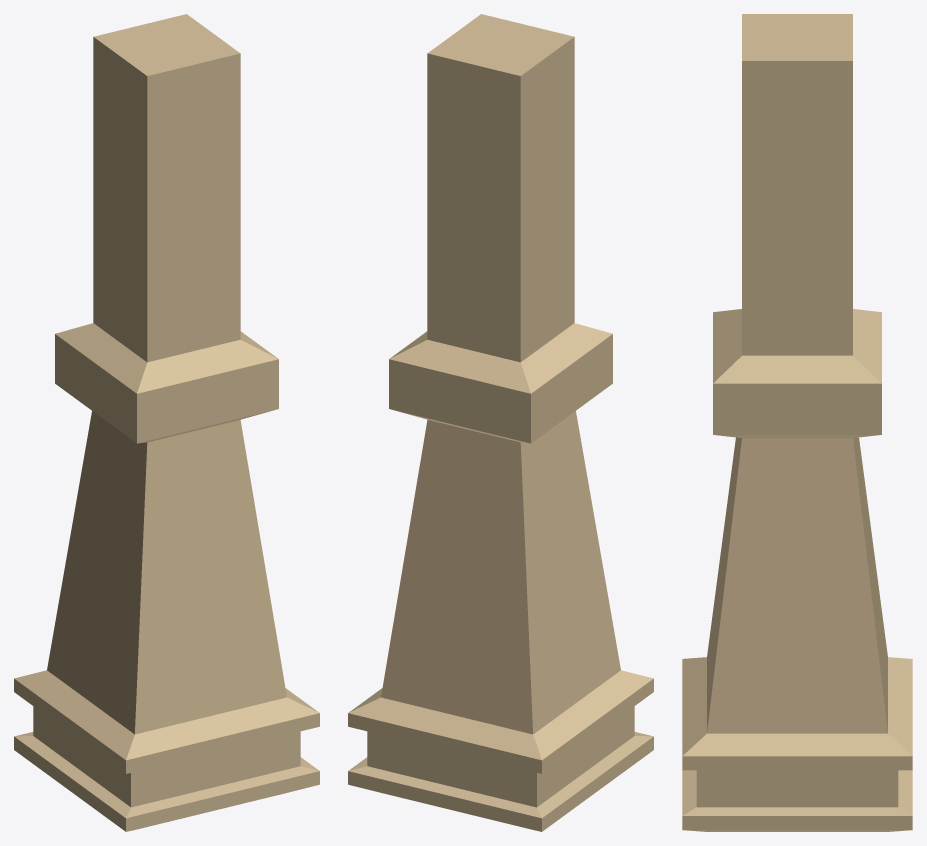
File: SM_TemplePillar07_Gaeta.fbx
3 renders of one model, left to right at view 1: azimuth 30°, elevation 25°; view 2: azimuth 150°, elevation 25°; view 3: azimuth 270°, elevation 25°, orthographic. The views are drawn at different scales.
Parts seen in each view (by area): view 1: Cube.042; view 2: Cube.042; view 3: Cube.042.
Part boxes in pixels (<box>): Cube.042: <box>14,14,319,831</box>; Cube.042: <box>348,14,653,831</box>; Cube.042: <box>682,14,912,831</box>.
Bounding box in the file's own units: 0.5133 × 1.86 × 0.5133.
